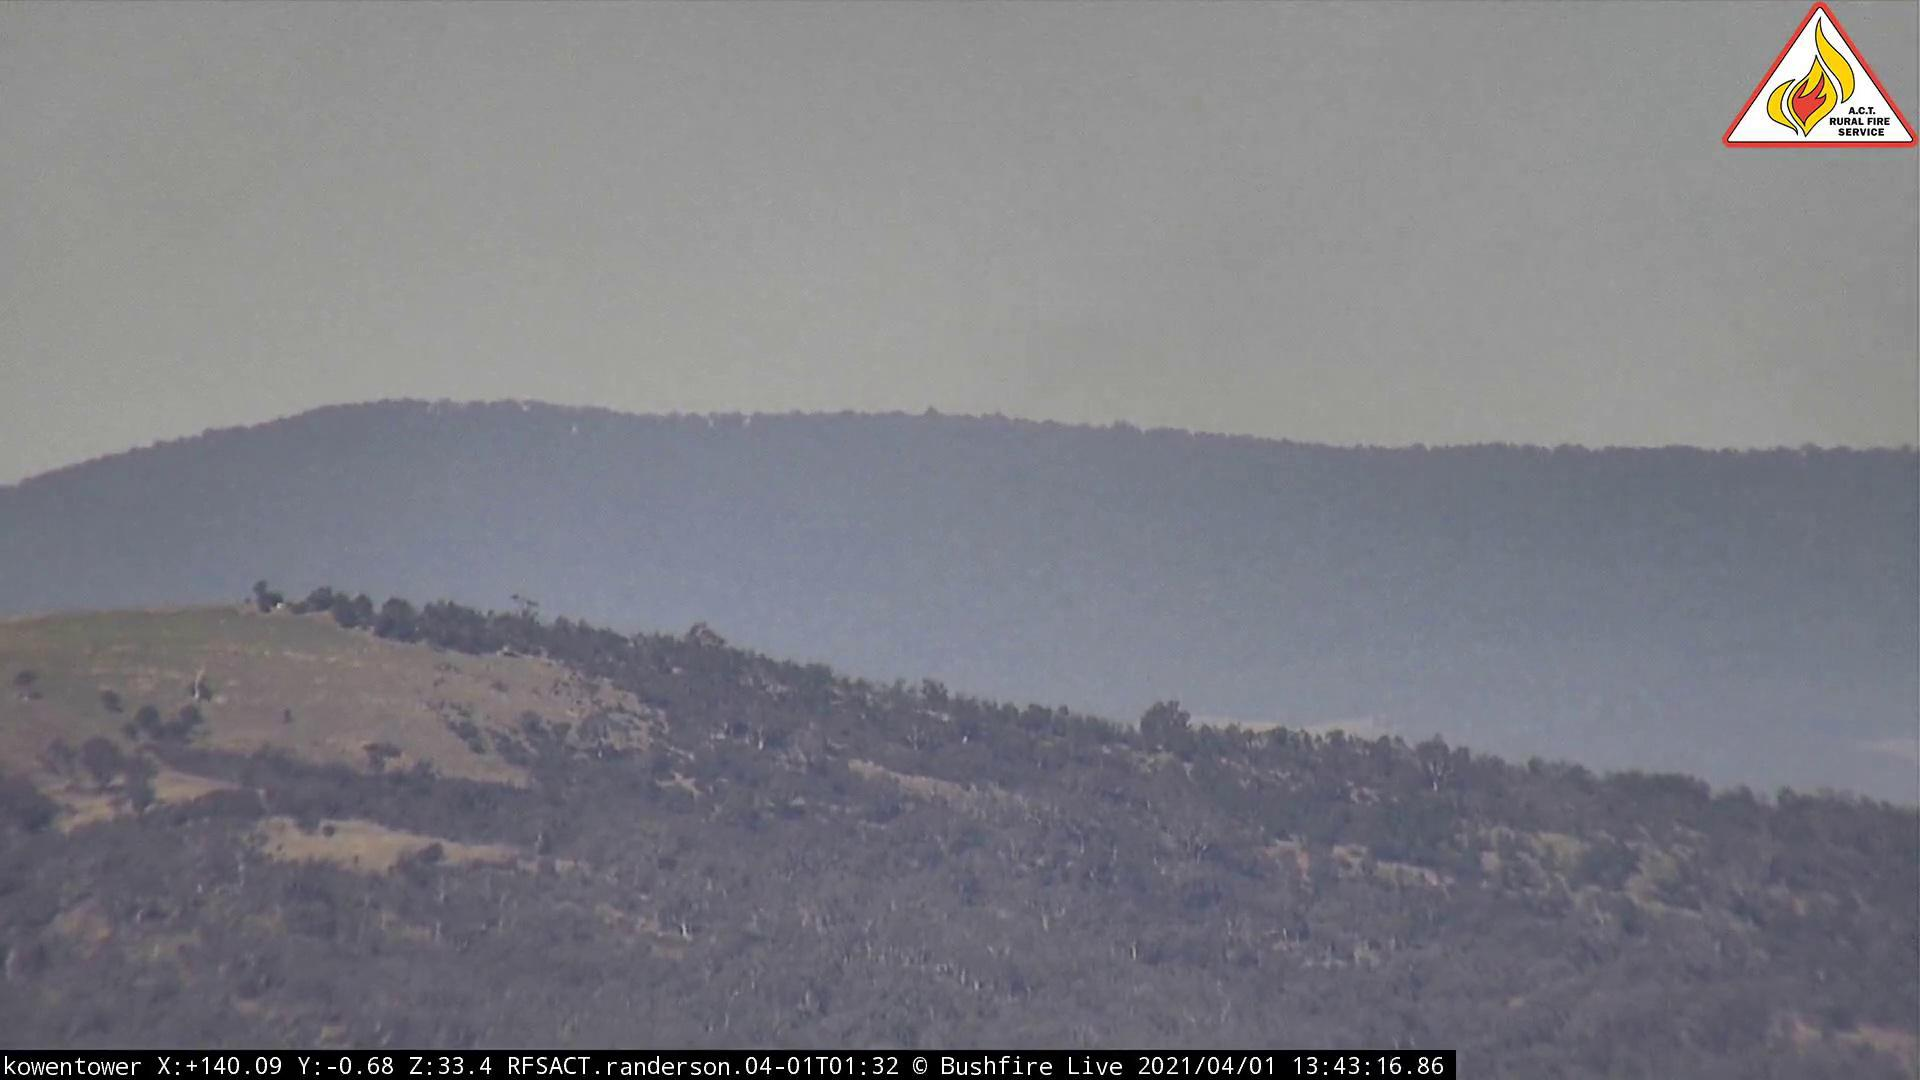Smoke: (965, 156, 1535, 546)
